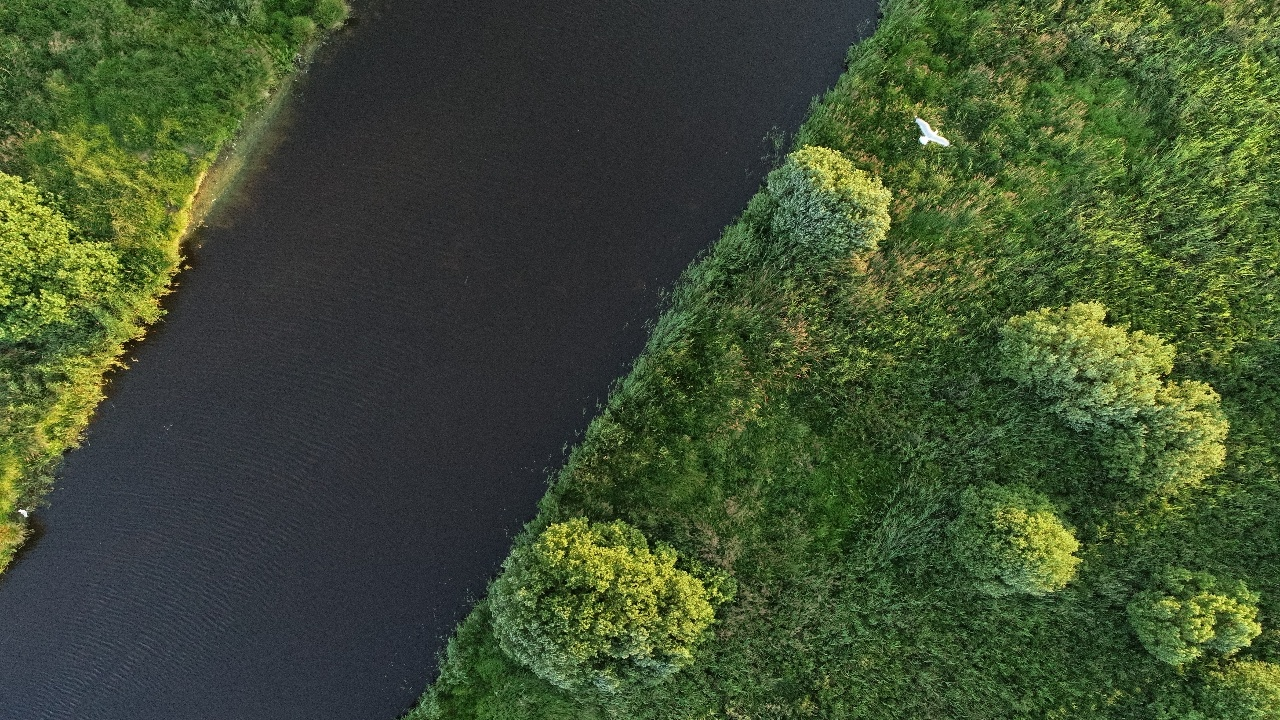Bird: (904, 109, 960, 158)
